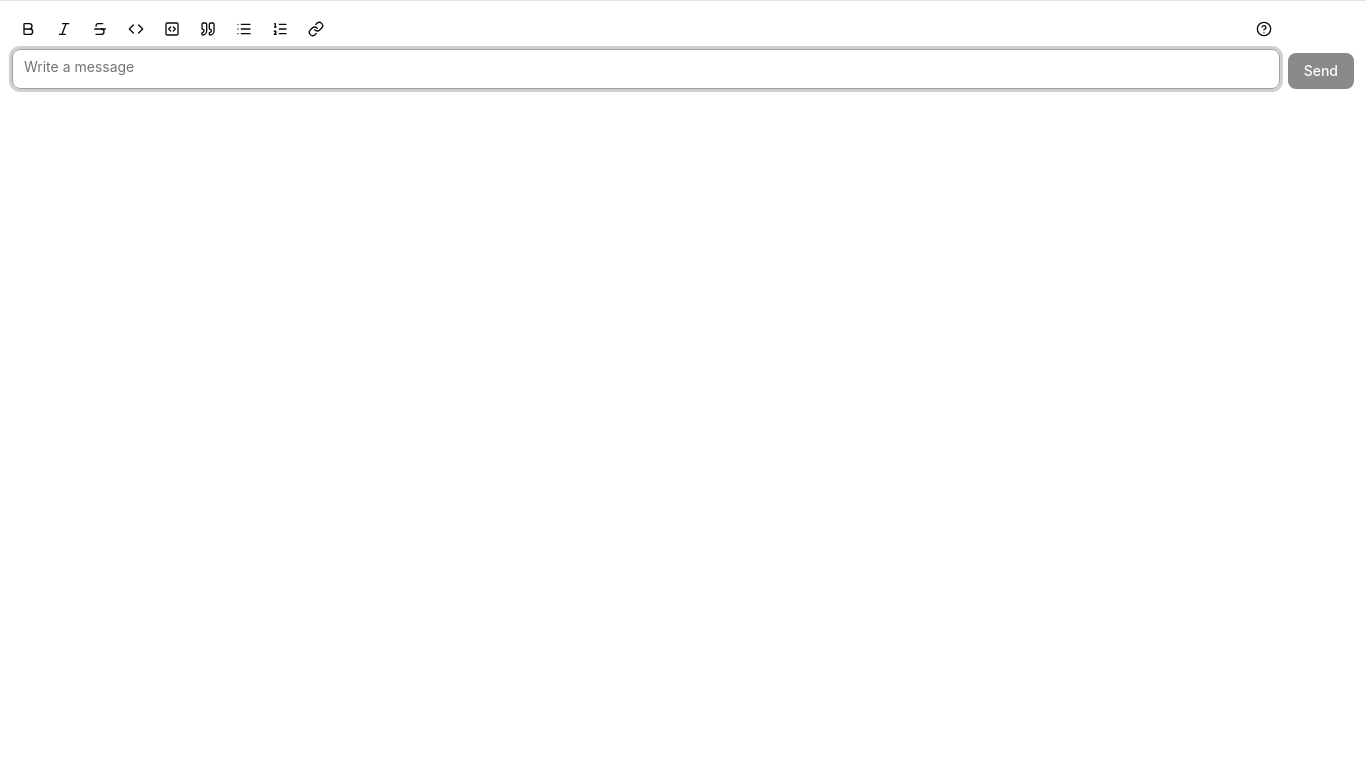
Test: inserts the text carrying the link when nothing is selected
Type "see " into the field named "Message" at (646, 69), box [12,49,1280,89]
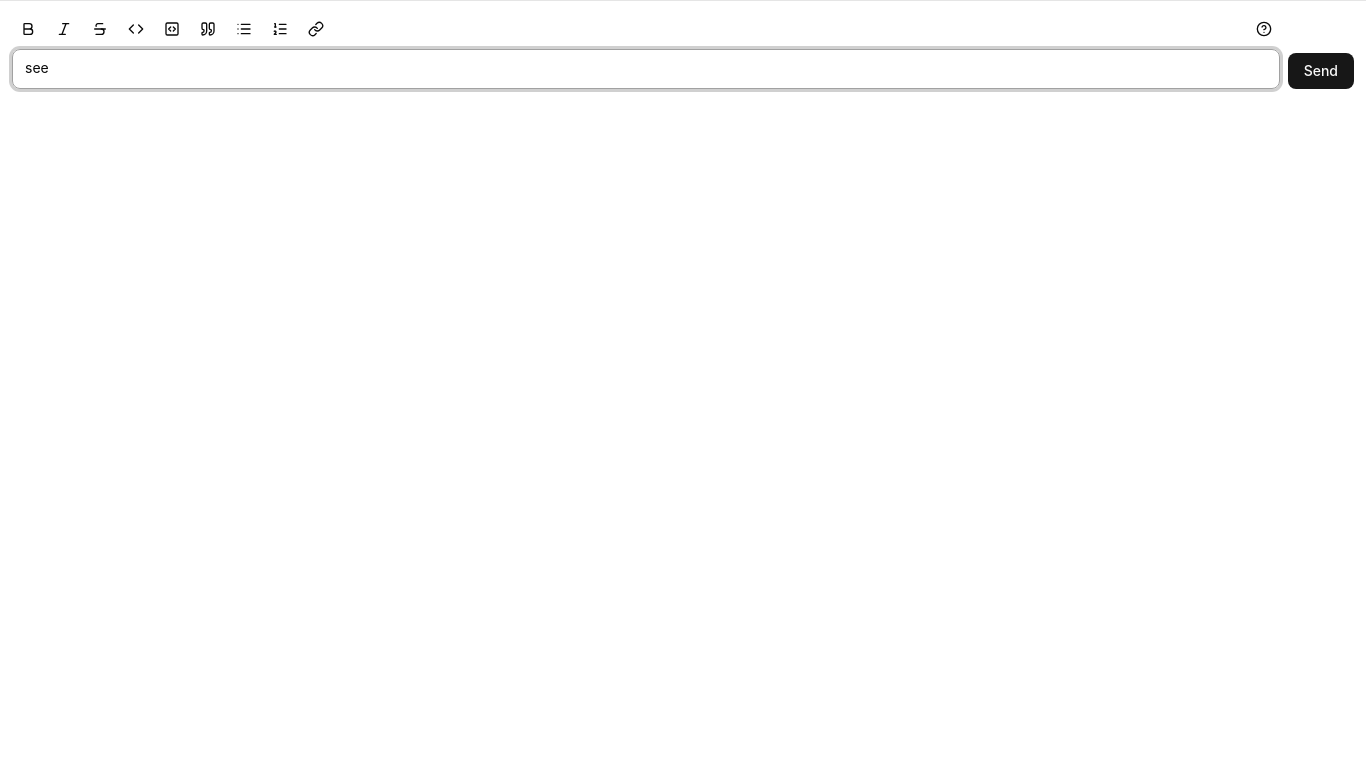
Click the button named "Link" at (316, 29), box [300,13,332,45]
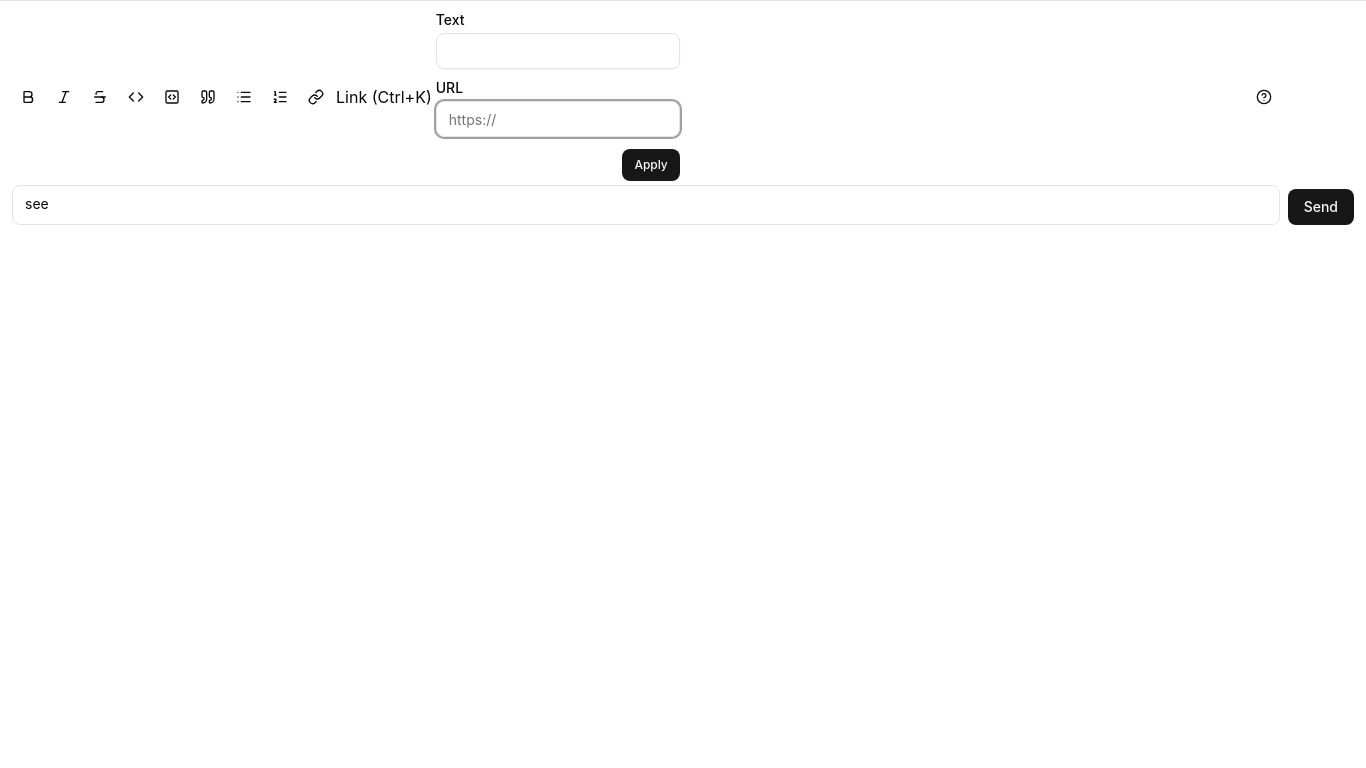
expect the field labelled "Text" is empty: met
Type "the docs" into the field labelled "Text" at (558, 51), box [436,33,680,69]
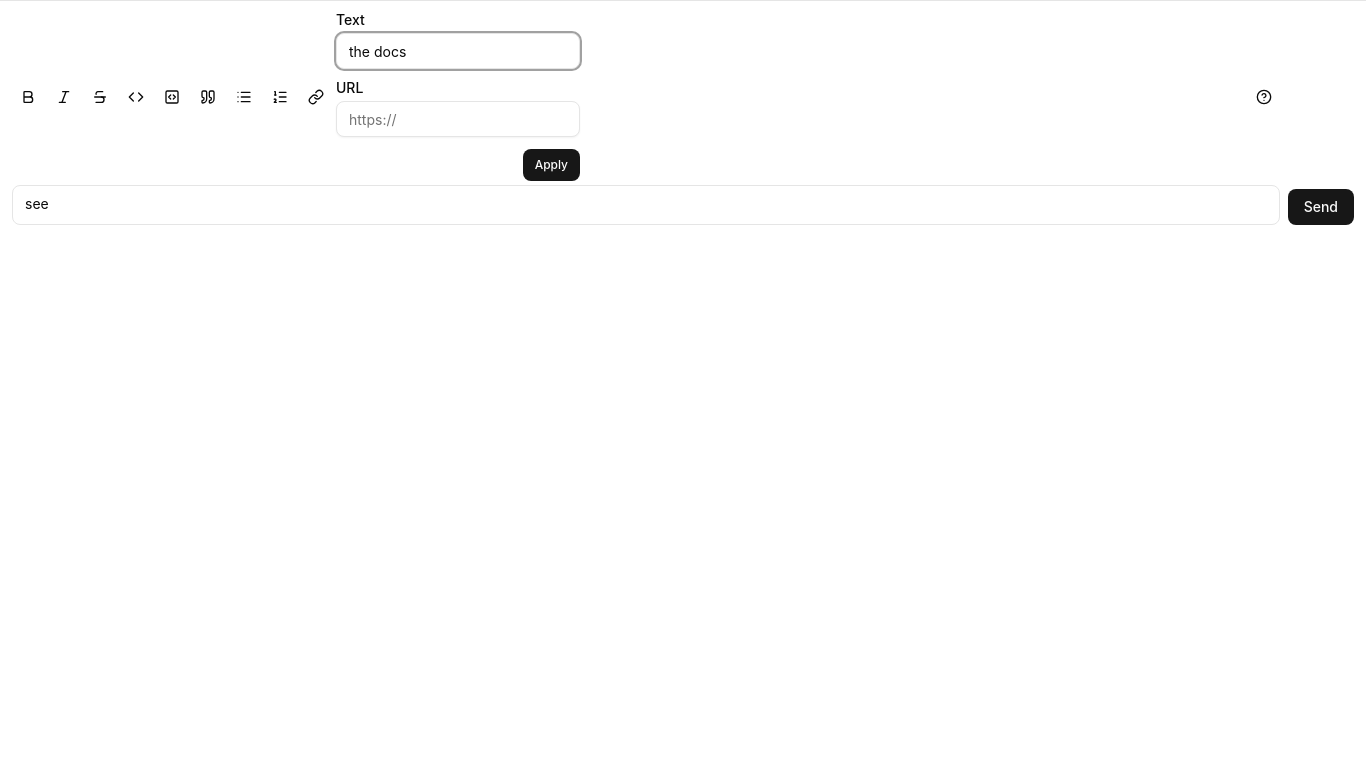
Type "https://example.test" into the field labelled "URL" at (458, 119), box [336,101,580,137]
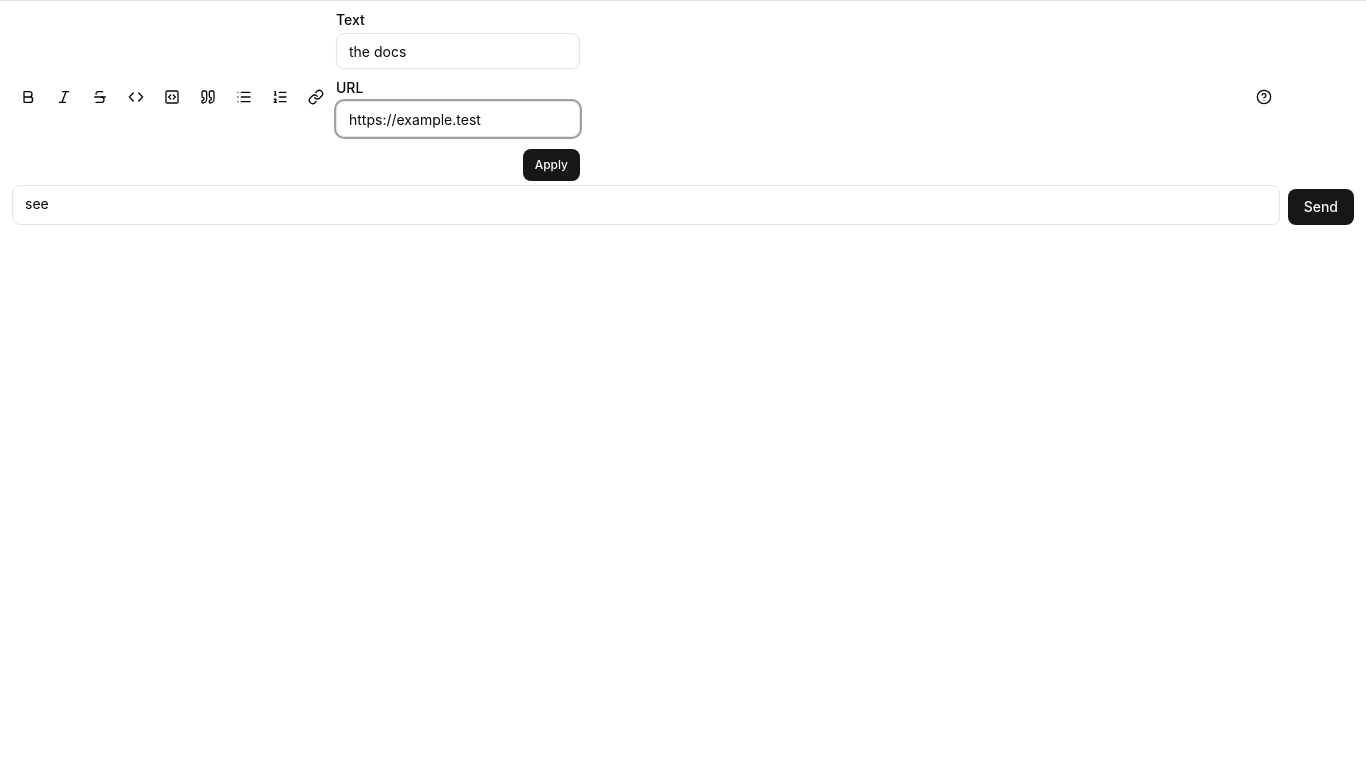
Click the button "Apply" at (551, 165), box [523,149,580,181]
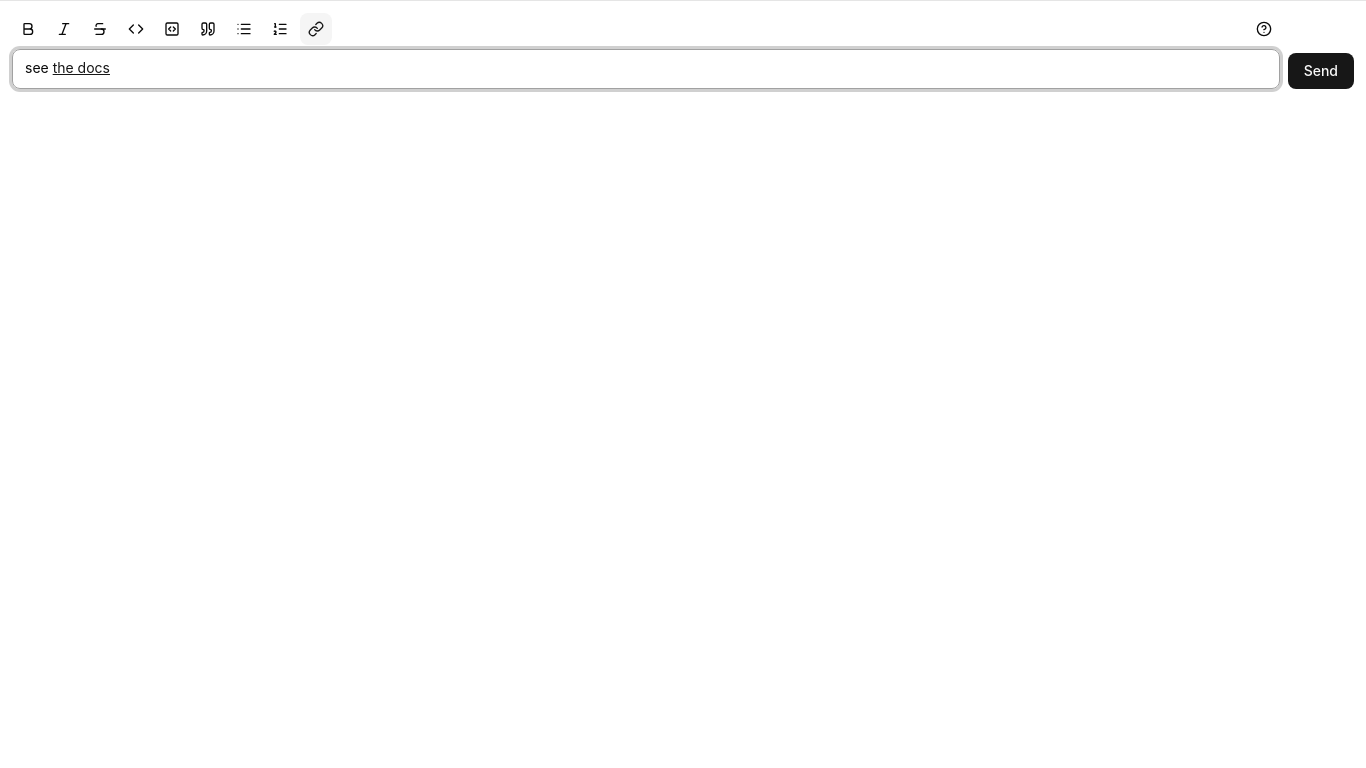
expect the link "the docs" is shown: met, box [53,59,110,76]
